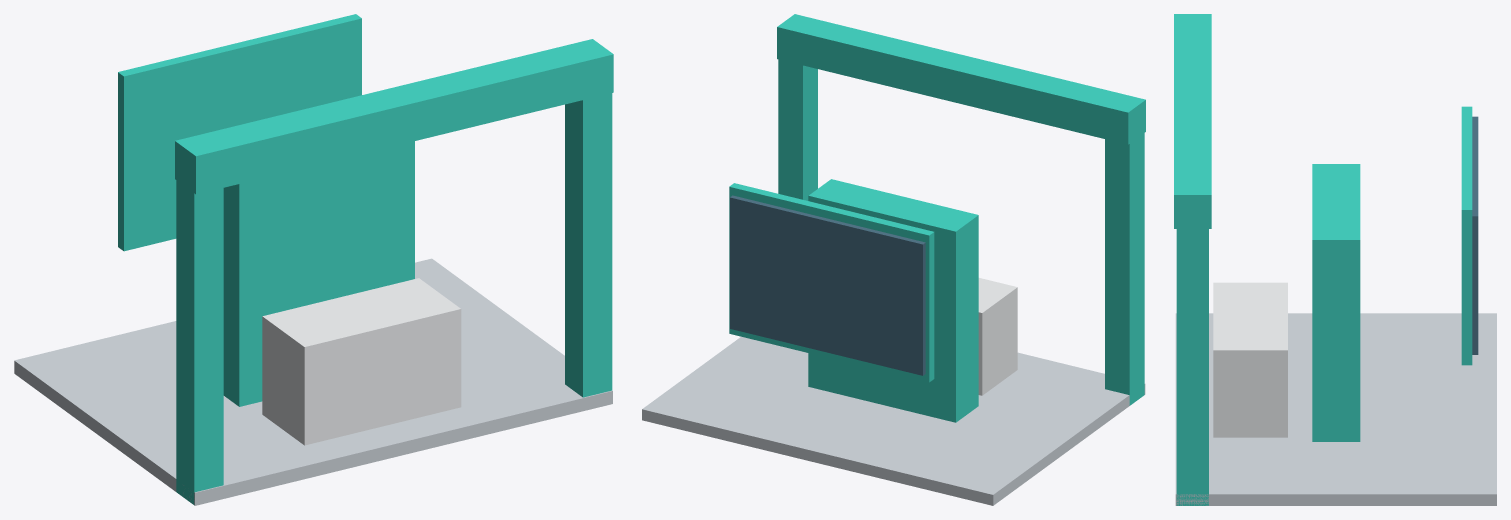
3 views of the same model, side by side, from view 1: azimuth 30°, elevation 25°; view 2: azimuth 150°, elevation 25°; view 3: azimuth 270°, elevation 25° (orthographic). The views are drawn at different scales.
Visible parts, largest first — view 1: Exhibition Booth Concept; view 2: Exhibition Booth Concept; view 3: Exhibition Booth Concept.
Part boxes in pixels (x1=…): Exhibition Booth Concept: x1=14, y1=14, x2=613, y2=505; Exhibition Booth Concept: x1=642, y1=14, x2=1145, y2=505; Exhibition Booth Concept: x1=1174, y1=14, x2=1496, y2=505.
Bounding box in the file's own units: 4 × 3.2 × 3.01.
